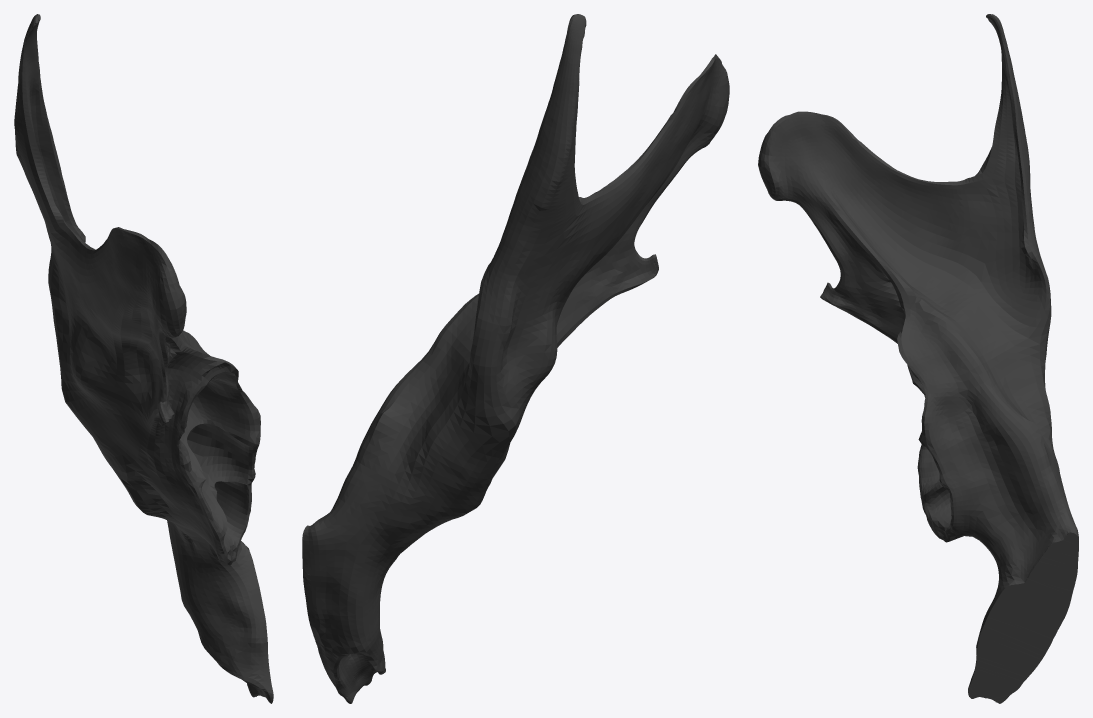
The model's file is chin_skull_L_020.glb.
The picture shows the model from 3 angles, left to right: view 1: azimuth 30°, elevation 25°; view 2: azimuth 150°, elevation 25°; view 3: azimuth 270°, elevation 25°; orthographic projection. The views are drawn at different scales.
Visible parts, largest first — view 1: chin_skull_L_020; view 2: chin_skull_L_020; view 3: chin_skull_L_020.
Boxes of the visible parts, x1,y1,x2,y2 form: chin_skull_L_020: [14, 14, 273, 703]; chin_skull_L_020: [302, 14, 729, 703]; chin_skull_L_020: [758, 14, 1078, 703].
Bounding box in the file's own units: 0.5845 × 1.7 × 0.8238.
Materials: 1 (1 with a texture image).
